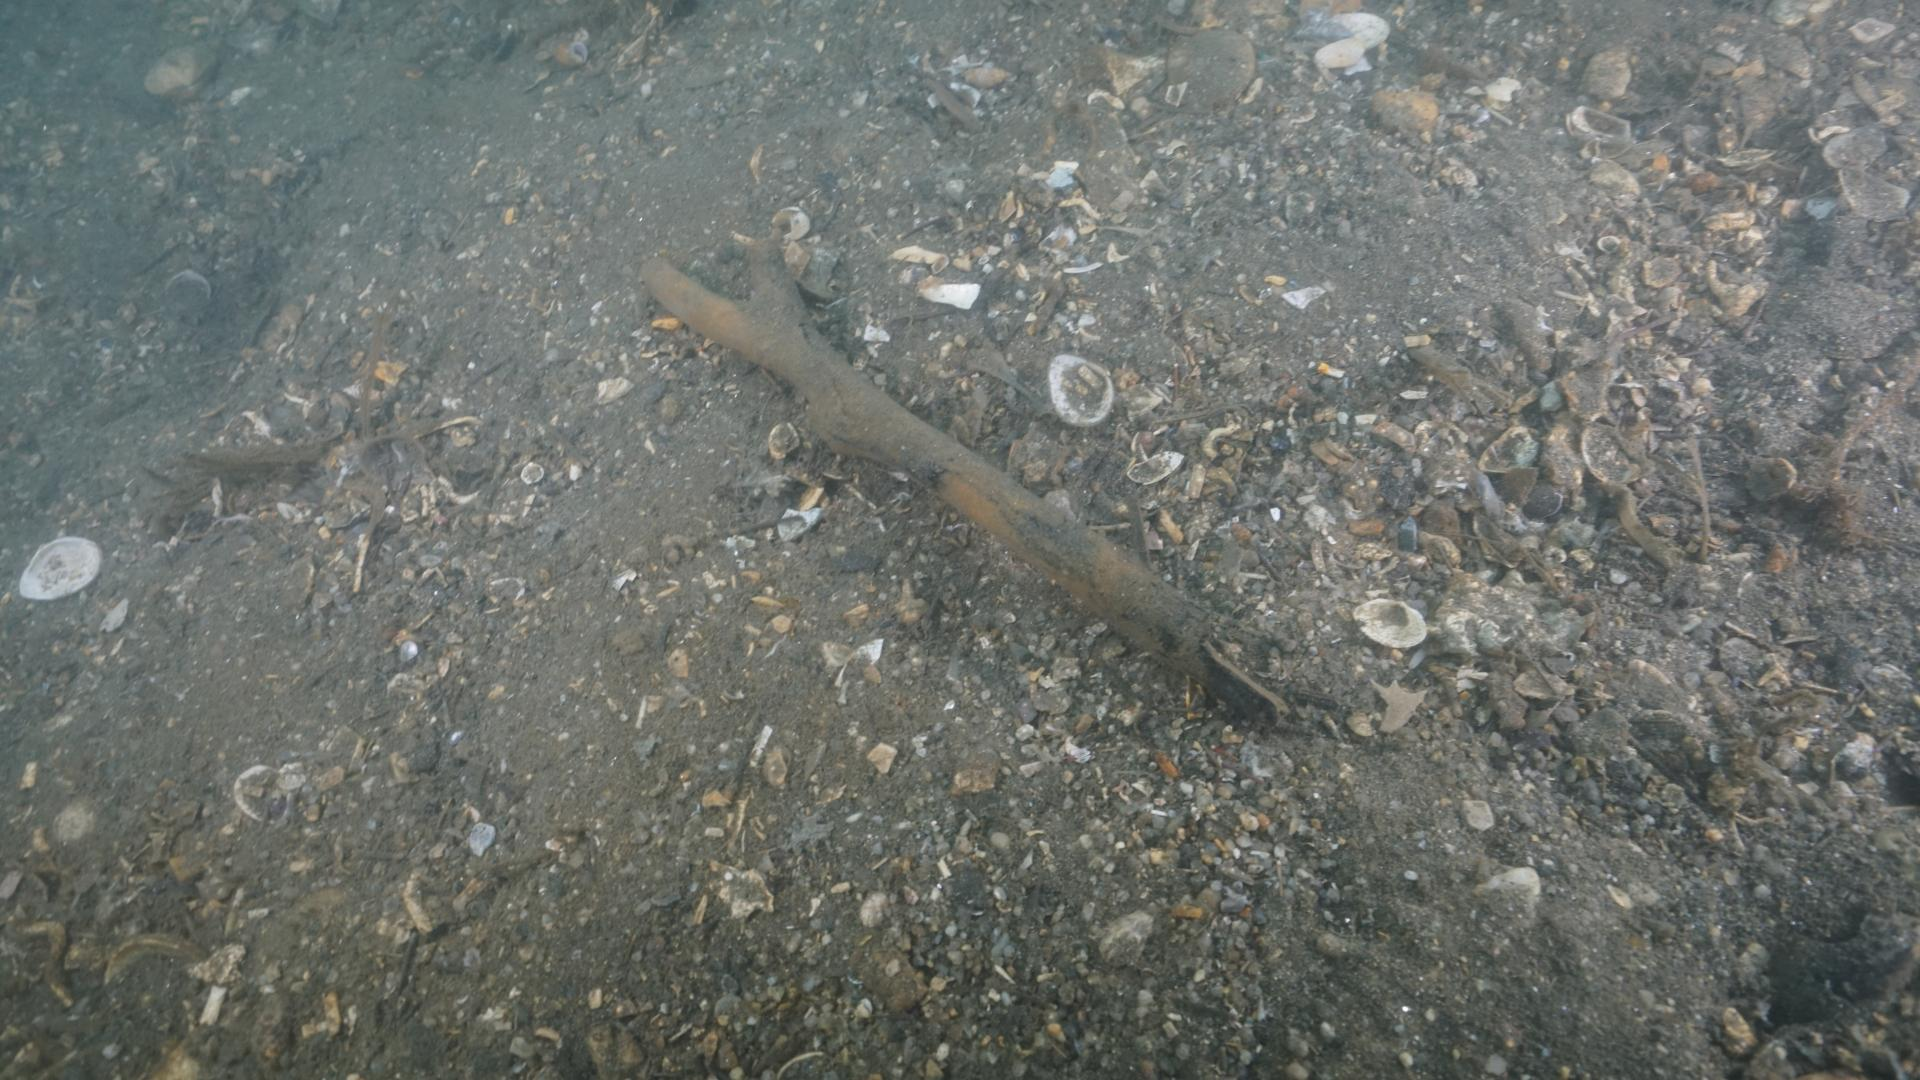wood: (633, 251, 1284, 725)
